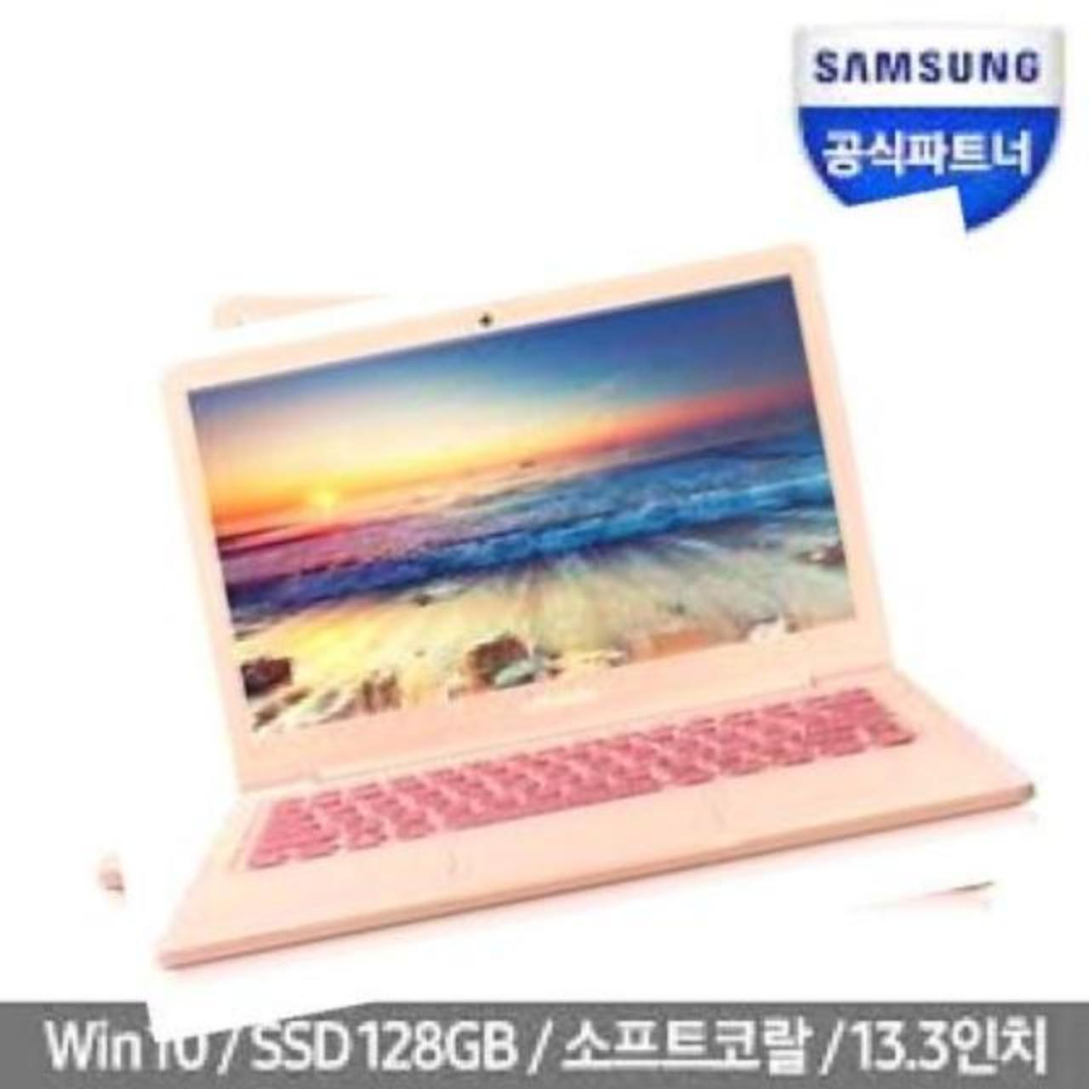laptop: (54, 231, 1058, 1001)
